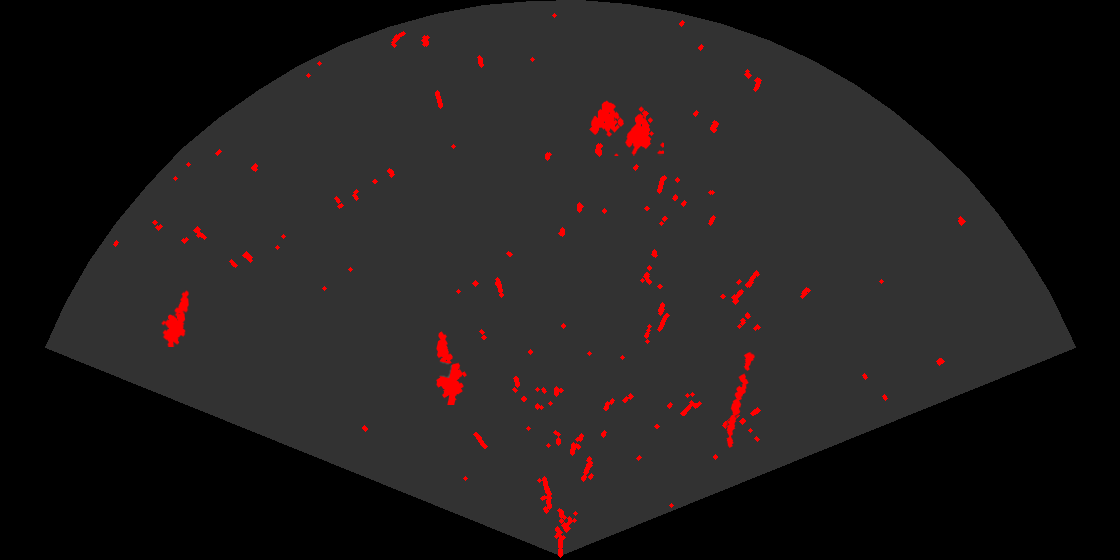cage: (588, 99, 664, 156)
chain: (725, 350, 756, 449)
frogman: (435, 330, 468, 405), (160, 288, 190, 347)
